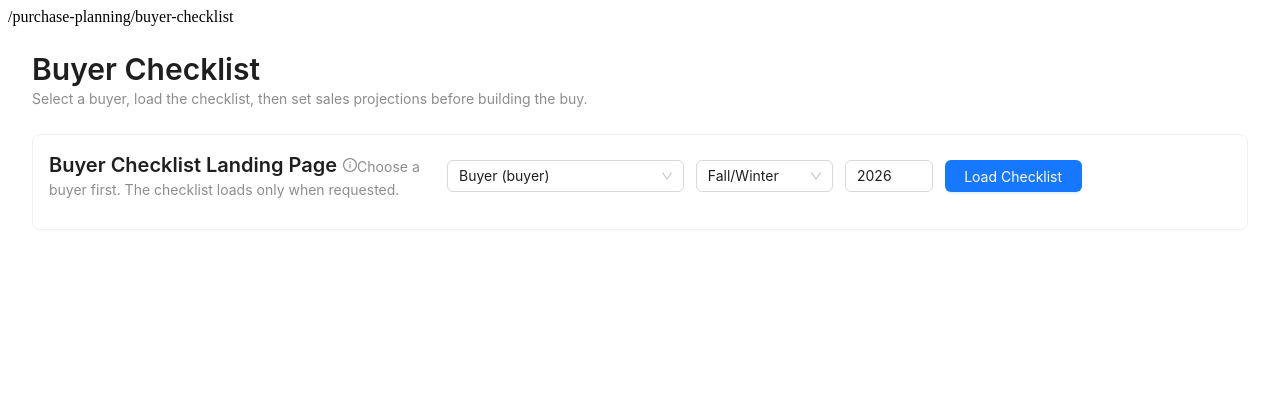
Test: BuyerPurchasePlanningPage › explains that checklist budget ownership comes from category buyer assignments
This screenshot has width=1265, height=402.
Hover over the picture named "Category budget ownership note" at (350, 165), box [343,158,357,172]
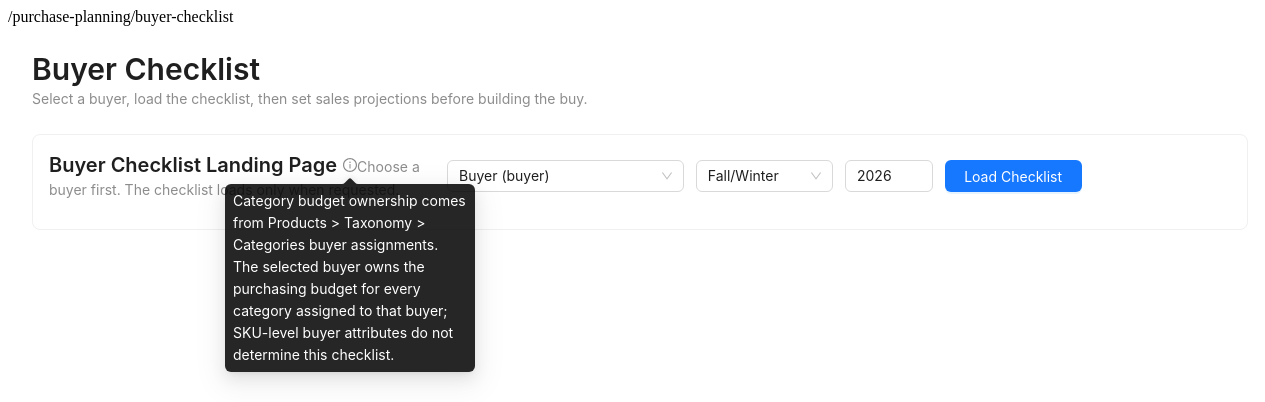
Expected: the tooltip shows "Category budget ownership comes from Products > Taxonomy > Categories buyer assignments.", [233,192,466,363]
Expected: the tooltip shows "SKU-level buyer attributes do not determine this checklist.", [233,192,466,363]
